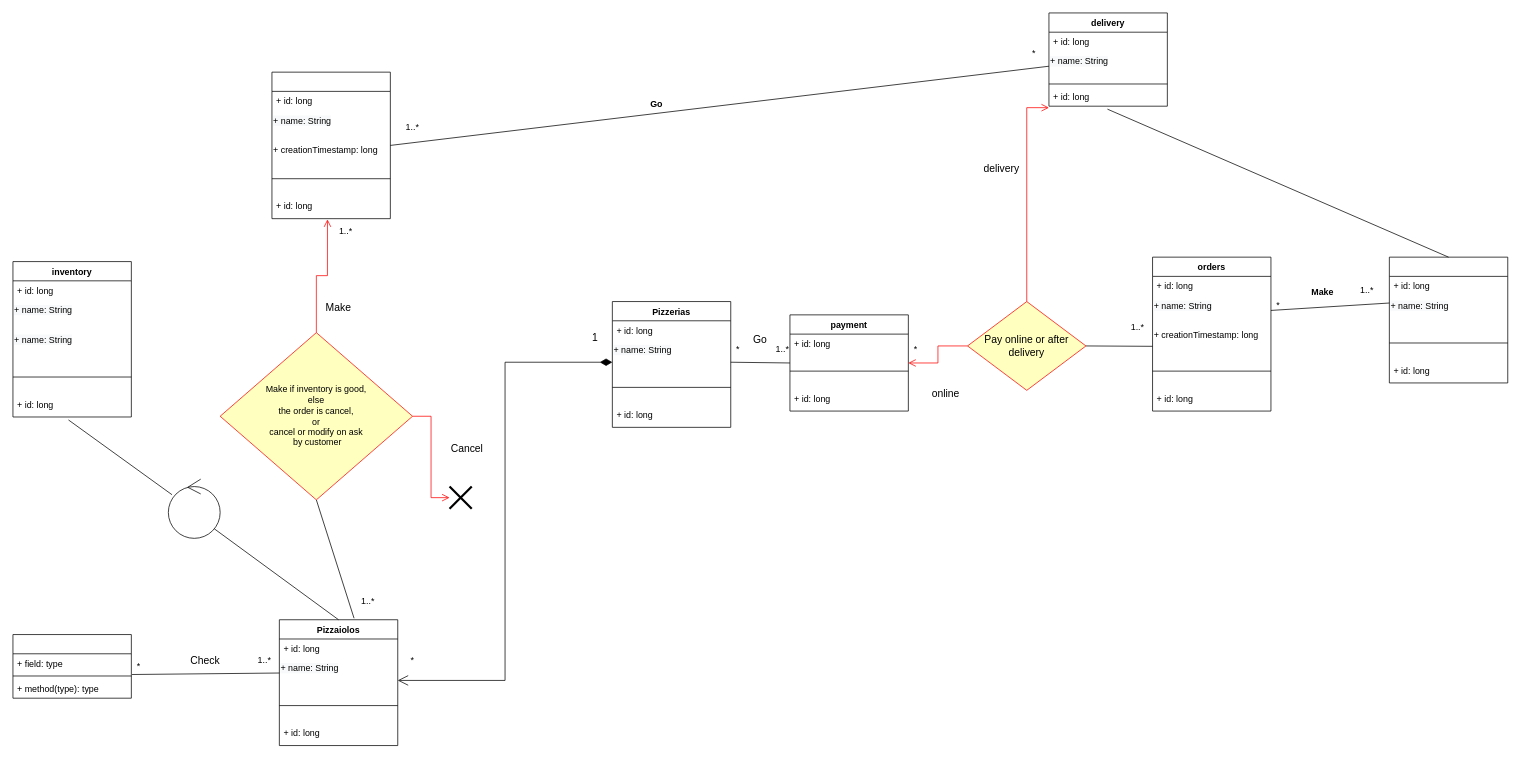
Some shapes in this 1521 by 761 pixel diagram are drawn without their labels. Each missing label, with the box of its shape:
Check inventory: (168, 478, 220, 538)
customers: (1389, 256, 1508, 383)
Memo: (12, 634, 131, 698)
Pizzas: (271, 71, 390, 219)
